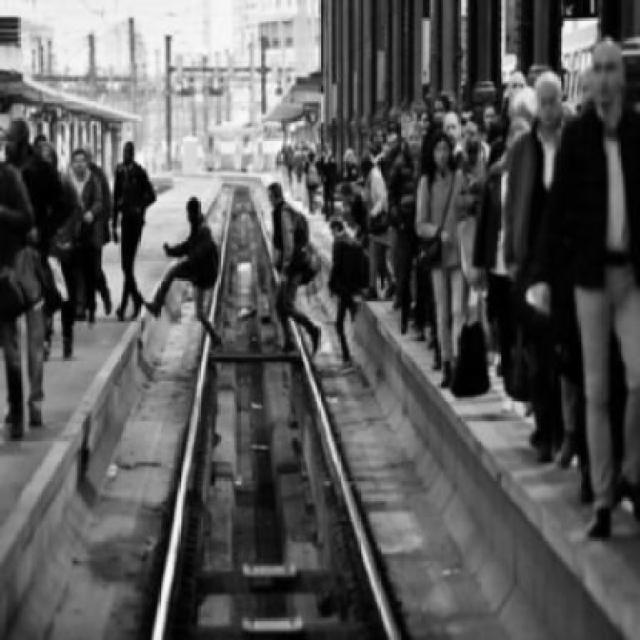Manusia: (264, 176, 322, 364), (164, 196, 225, 358), (326, 214, 376, 369)
